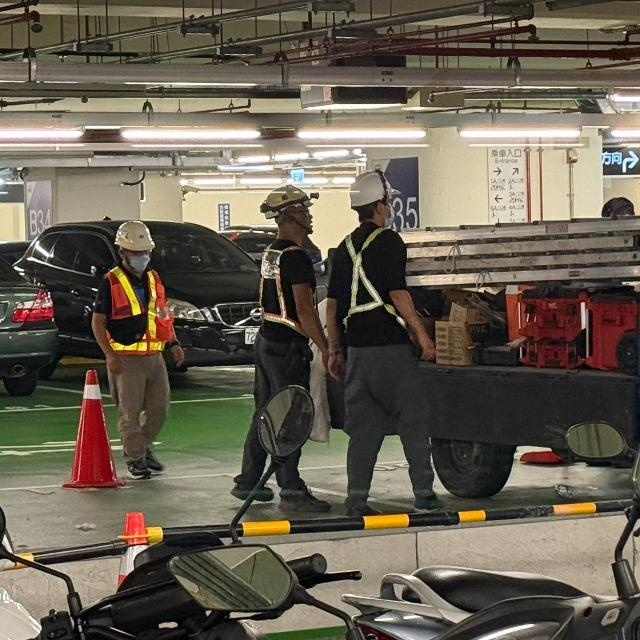Con_Casco: (260, 184, 320, 236), (347, 170, 402, 226), (115, 219, 156, 269)
Con_Chaleco: (333, 227, 407, 343), (254, 239, 318, 342), (98, 267, 169, 359)
